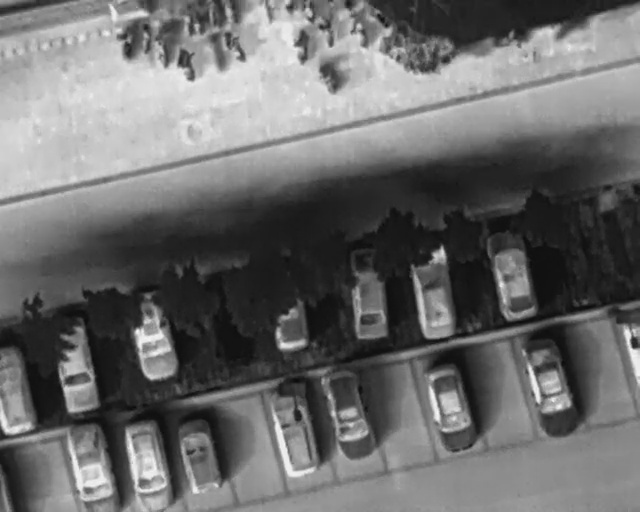Bicycle: (222, 31, 247, 65), (176, 45, 197, 83), (316, 61, 339, 95), (294, 28, 308, 63), (118, 22, 131, 58), (320, 17, 335, 47), (157, 38, 168, 68), (225, 0, 237, 27), (208, 0, 218, 30), (142, 22, 151, 55), (303, 1, 315, 24), (356, 22, 366, 47), (183, 9, 191, 40), (263, 0, 274, 22), (193, 11, 202, 35), (286, 1, 295, 17)
Car: (512, 335, 586, 445), (124, 283, 186, 384), (262, 380, 323, 480), (62, 415, 125, 511), (321, 363, 380, 462), (43, 315, 103, 411), (422, 361, 481, 456), (484, 228, 543, 322), (409, 238, 460, 342), (171, 415, 227, 498), (127, 422, 172, 511), (351, 247, 388, 341), (0, 348, 32, 434), (276, 285, 307, 349)
